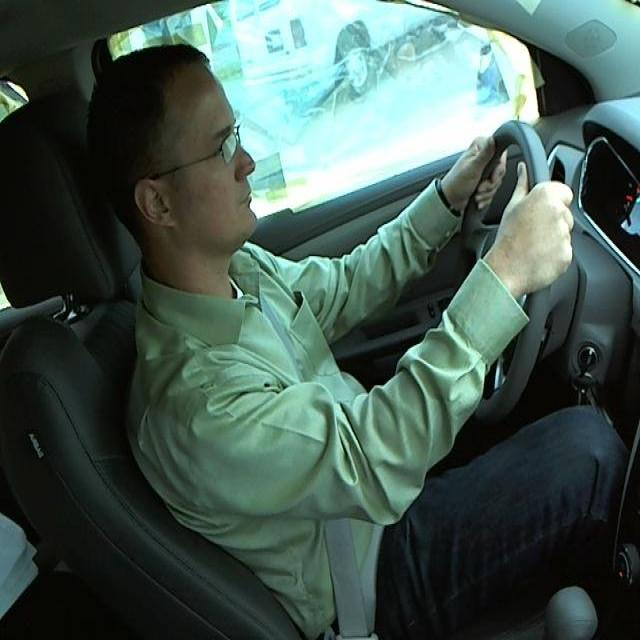without_using_phone: (70, 6, 292, 292)
